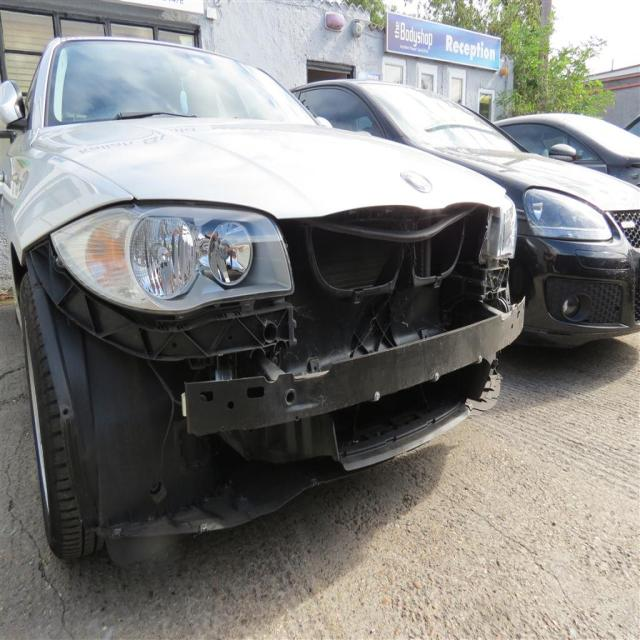missing: (20, 200, 525, 569)
